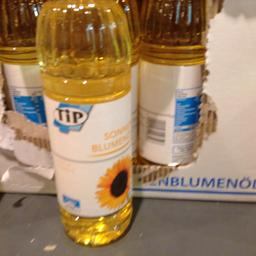oil: (34, 0, 132, 245), (135, 0, 207, 165)
